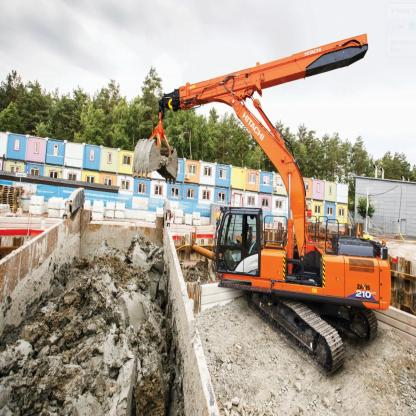excavator: (130, 27, 387, 375)
